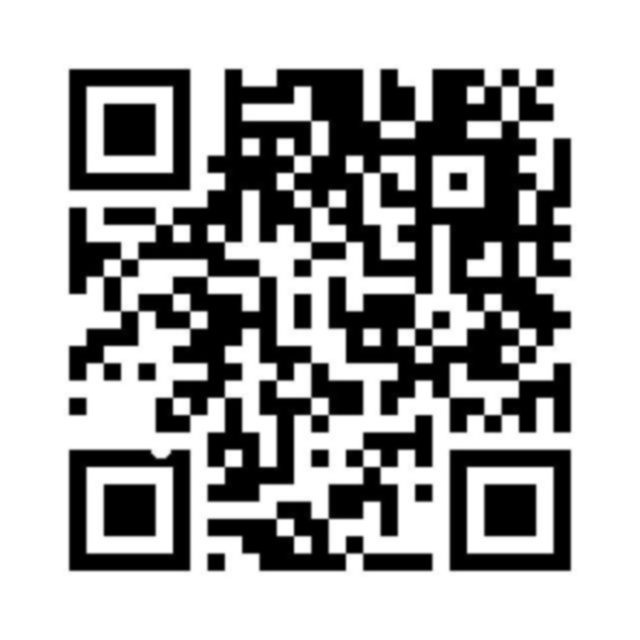qr-code: (52, 56, 594, 586)
